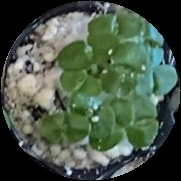Basil: (90, 100, 131, 151), (101, 44, 146, 90), (57, 35, 111, 69), (39, 112, 93, 140), (129, 95, 157, 146), (133, 65, 179, 96), (89, 12, 142, 37), (61, 69, 104, 95)
